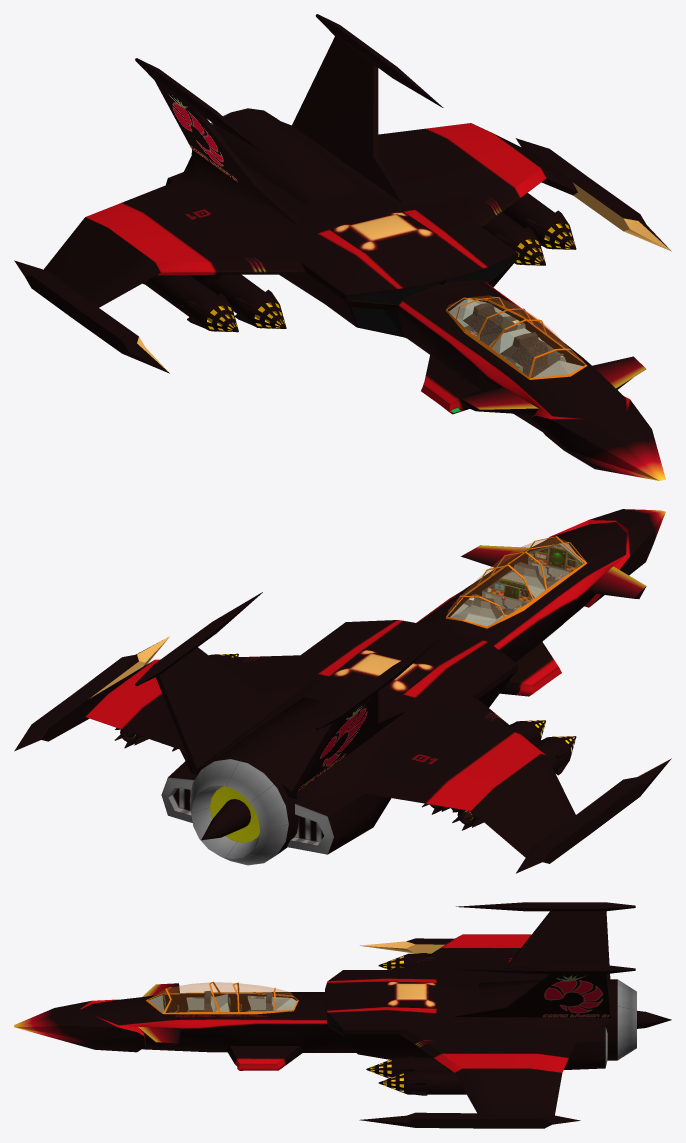
The model's file is uploads_files_874121_CosmoDragon.FBX.
3 renders of one model, top to bottom at view 1: azimuth 30°, elevation 25°; view 2: azimuth 150°, elevation 25°; view 3: azimuth 270°, elevation 25°, orthographic. The views are drawn at different scales.
Visible parts, largest first — view 1: Jet, Window, Cockpit, Launcher4, Launcher3, Launcher1, Launcher2; view 2: Jet, Window, Cockpit, Launcher4, Launcher3; view 3: Jet, Window, Launcher1, Cockpit, Launcher2, Launcher4.
Part boxes in pixels (left/top/right/bottom): Jet: left=14, top=14, right=671, bottom=480; Window: left=446, top=295, right=587, bottom=379; Cockpit: left=449, top=298, right=582, bottom=378; Launcher4: left=142, top=275, right=238, bottom=332; Launcher3: left=207, top=274, right=286, bottom=328; Launcher1: left=504, top=193, right=576, bottom=249; Launcher2: left=482, top=212, right=545, bottom=265; Jet: left=14, top=509, right=671, bottom=873; Window: left=446, top=536, right=586, bottom=628; Cockpit: left=450, top=543, right=583, bottom=626; Launcher4: left=452, top=736, right=576, bottom=830; Launcher3: left=422, top=720, right=545, bottom=814; Jet: left=14, top=902, right=671, bottom=1128; Window: left=146, top=981, right=298, bottom=1014; Launcher1: left=378, top=1070, right=466, bottom=1095; Cockpit: left=148, top=990, right=296, bottom=1012; Launcher2: left=366, top=1056, right=448, bottom=1078; Launcher4: left=378, top=953, right=430, bottom=969.
Size of the model in its own units: 136 by 42.8 by 210.
Materials: 7 (6 with a texture image).
